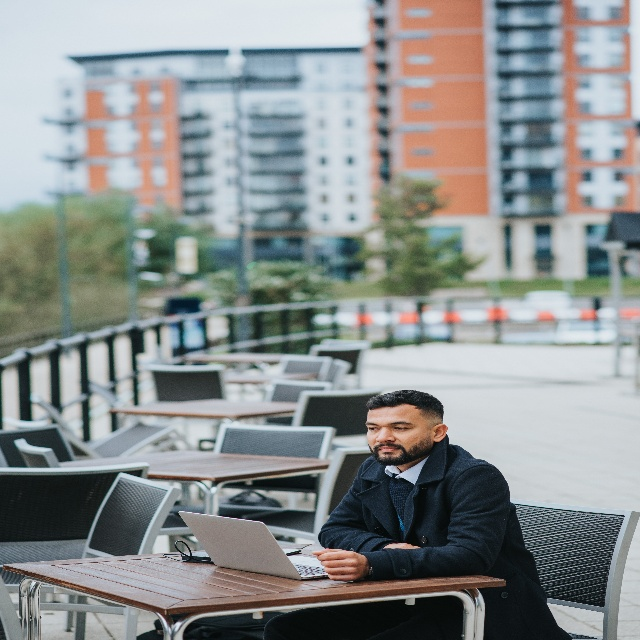Sin_guantes: (312, 548, 367, 583)
